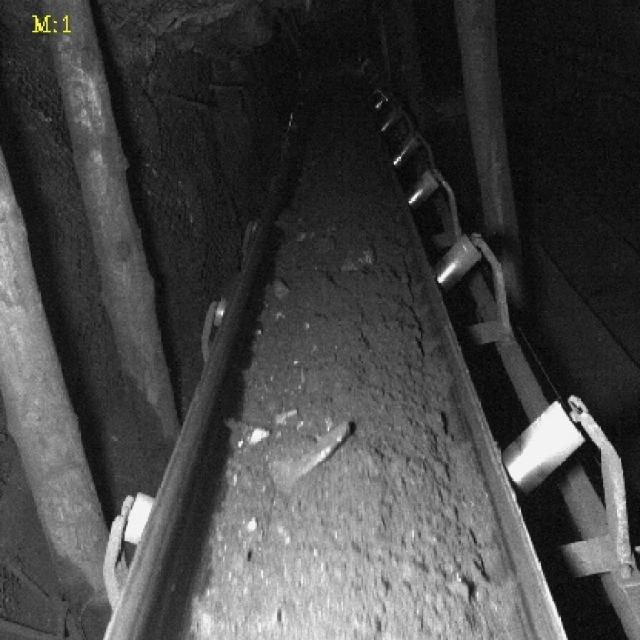large_sized_coal: (268, 420, 350, 489), (337, 248, 381, 277)
